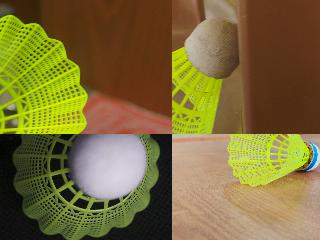shuttlecock: (13, 134, 160, 239), (0, 14, 88, 133), (172, 17, 238, 133), (228, 134, 319, 186)
